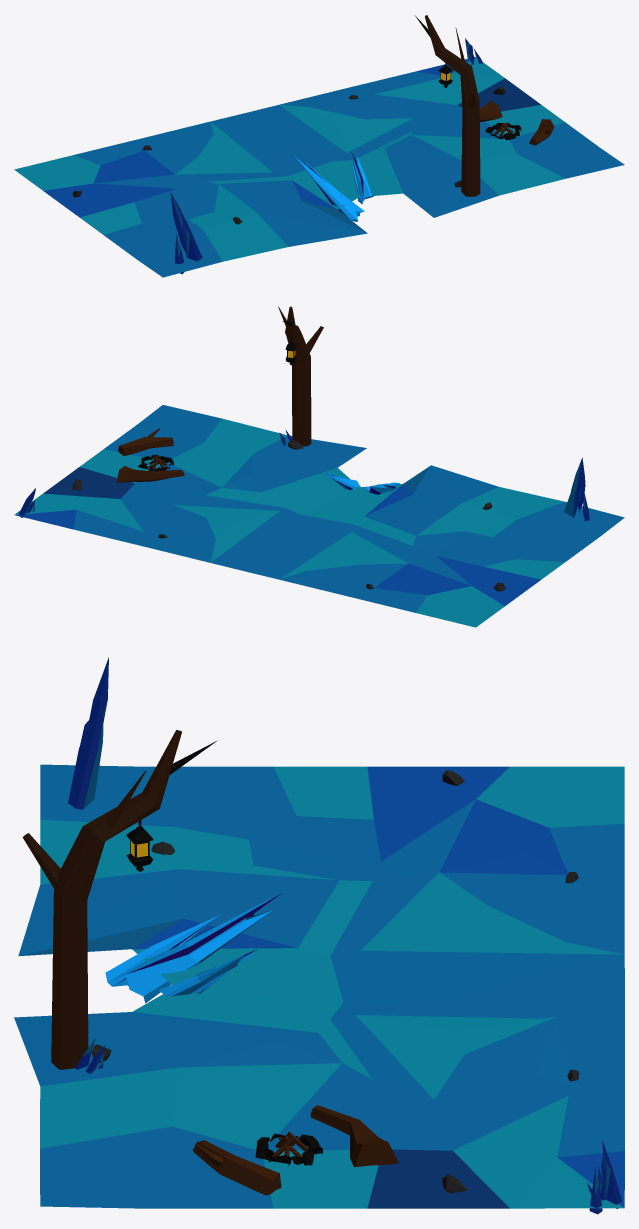
File: terrain-ice.glb
3 views of the same model, one above another, from view 1: azimuth 30°, elevation 25°; view 2: azimuth 150°, elevation 25°; view 3: azimuth 270°, elevation 25° (orthographic). The views are drawn at different scales.
Visible parts, largest first — view 1: ice-terrain; view 2: ice-terrain; view 3: ice-terrain.
Part boxes in pixels (x1,y1,x2,y2): ice-terrain: (14, 15, 624, 277); ice-terrain: (14, 306, 624, 627); ice-terrain: (14, 657, 624, 1214).
Bounding box in the file's own units: 13.52 × 4.93 × 7.88.
Materials: 1 (1 with a texture image).
